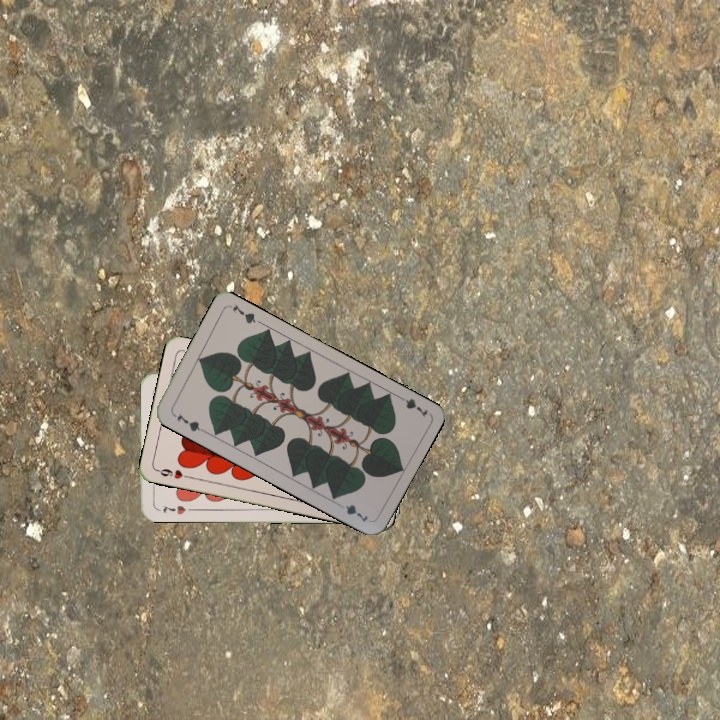G7: (393, 391, 431, 420), (169, 409, 206, 434)
H7: (159, 501, 188, 517)
H9: (153, 465, 194, 482)
